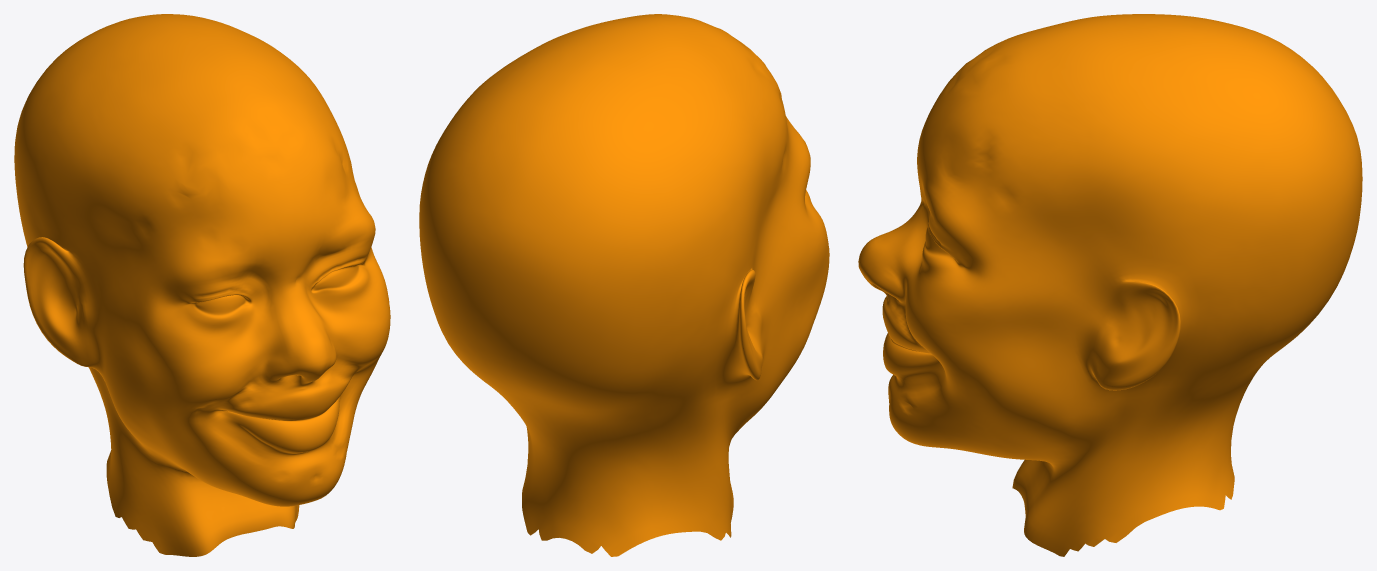
Rendered from head_orange-transformed.glb.
3 views of the same model, side by side, from view 1: azimuth 30°, elevation 25°; view 2: azimuth 150°, elevation 25°; view 3: azimuth 270°, elevation 25° (orthographic). The views are drawn at different scales.
Visible parts, largest first — view 1: FaceBuilderHead.002; view 2: FaceBuilderHead.002; view 3: FaceBuilderHead.002.
Part boxes in pixels (x1,y1,x2,y2): FaceBuilderHead.002: [14, 14, 390, 556]; FaceBuilderHead.002: [419, 14, 829, 556]; FaceBuilderHead.002: [858, 14, 1362, 556].
Bounding box in the file's own units: 1.96 × 2.91 × 2.69.
